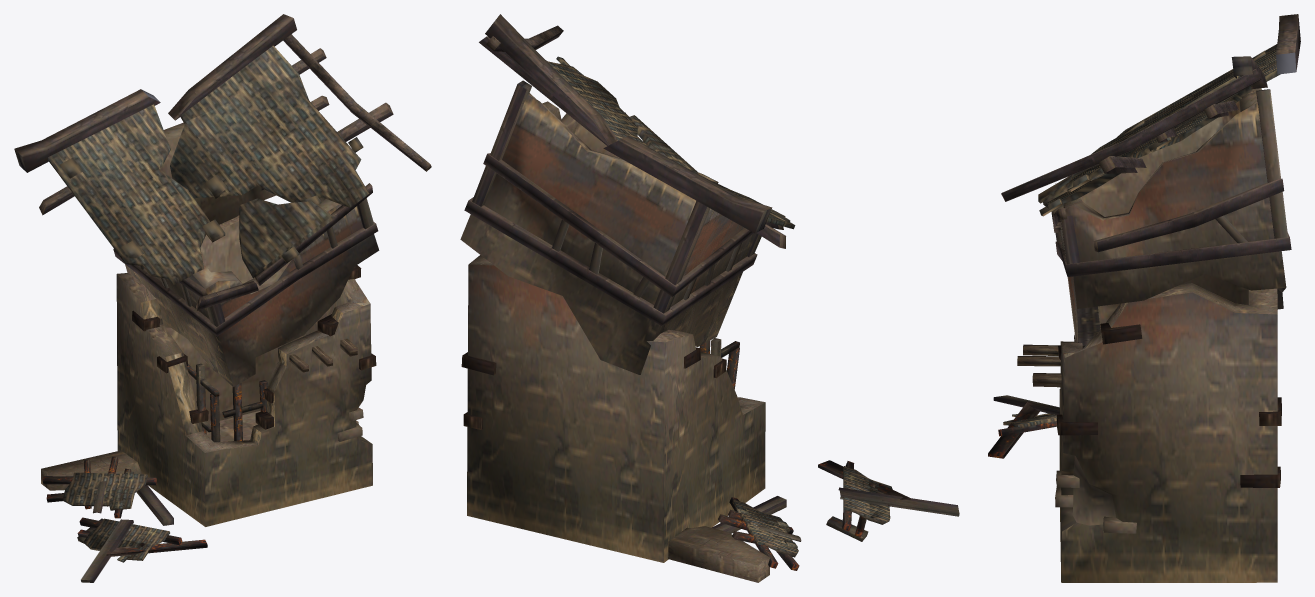
The model's file is FeiXu3_FangZi.FBX.
The picture shows the model from 3 angles, left to right: view 1: azimuth 30°, elevation 25°; view 2: azimuth 150°, elevation 25°; view 3: azimuth 270°, elevation 25°; orthographic projection. The views are drawn at different scales.
Visible parts, largest first — view 1: DrawCall_819, DrawCall_820; view 2: DrawCall_820, DrawCall_819; view 3: DrawCall_820, DrawCall_819.
Boxes of the visible parts, x1,y1,x2,y2 form: DrawCall_819: (14, 14, 431, 582); DrawCall_820: (41, 122, 379, 526); DrawCall_820: (460, 93, 769, 582); DrawCall_819: (464, 14, 959, 570); DrawCall_820: (1055, 89, 1286, 582); DrawCall_819: (988, 14, 1300, 458).
Bounding box in the file's own units: 627 × 720 × 389.
